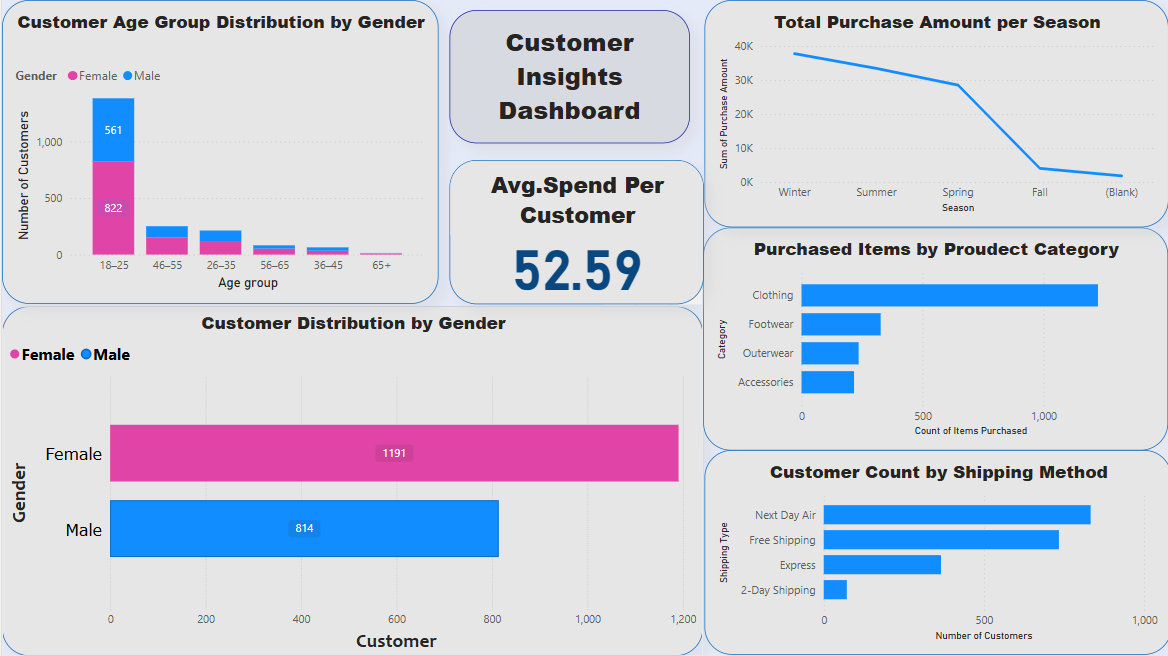

The page's visual inventory and layout, read from the dashboard file:
{"tool":"powerbi","page":{"name":"Page ١","canvas":[1280,720],"ordinal":0},"visuals":[{"type":"barChart","title":"Customer Distribution by Gender ","fields":{"Y":["CountNonNull(Sheet1.CustomerID)"],"Category":["Sheet1.Gender"],"Series":["Sheet1.Gender"]},"box":[0,336,769.8,383.7],"z":0},{"type":"columnChart","title":"Customer Age Group Distribution by Gender ","fields":{"Category":["Sheet1.Age group "],"Y":["CountNonNull(Sheet1.CustomerID)"],"Series":["Sheet1.Gender"]},"box":[0,0,479.1,333.7],"z":1000},{"type":"clusteredBarChart","title":"Purchased Items by Proudect Category","fields":{"Category":["Sheet1.Category"],"Y":["CountNonNull(Sheet1.Items Purchased)"]},"box":[769.7,249.1,510.1,244.6],"z":2000},{"type":"lineChart","title":"Total Purchase Amount per Season","fields":{"Category":["Sheet1.Season"],"Y":["Sum(Sheet1.Purchase Amount)"]},"box":[771,0,509.7,249.6],"z":3000},{"type":"clusteredBarChart","title":"Customer Count by Shipping Method","fields":{"Category":["Sheet1.Shipping Type"],"Y":["CountNonNull(Sheet1.CustomerID)"]},"box":[770.9,494.2,512.8,224.4],"z":4000},{"type":"card","title":"Avg.Spend Per Customer","fields":{"Values":["Avg(Sheet1.Purchase Amount)"]},"box":[490.7,175.6,279.1,158.1],"z":5000},{"type":"textbox","box":[0,805,408.6,251.4],"z":6000},{"type":"textbox","box":[490.7,10.5,264,146.5],"z":7000}]}

Visuals, with their boxes in screenshot pixels (x1, y1, x2, y2), scaled from the page's 1280x720 canvas onto the 1168x656 screenshot:
"Customer Distribution by Gender " barChart: {"x1": 0, "y1": 306, "x2": 702, "y2": 655}
"Customer Age Group Distribution by Gender " columnChart: {"x1": 0, "y1": 0, "x2": 437, "y2": 304}
"Purchased Items by Proudect Category" clusteredBarChart: {"x1": 702, "y1": 227, "x2": 1167, "y2": 450}
"Total Purchase Amount per Season" lineChart: {"x1": 704, "y1": 0, "x2": 1167, "y2": 227}
"Customer Count by Shipping Method" clusteredBarChart: {"x1": 703, "y1": 450, "x2": 1167, "y2": 655}
"Avg.Spend Per Customer" card: {"x1": 448, "y1": 160, "x2": 702, "y2": 304}
textbox: {"x1": 448, "y1": 10, "x2": 689, "y2": 143}
